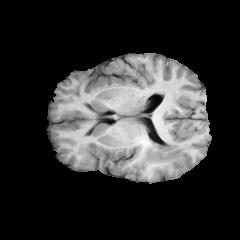glioma: (100, 144, 185, 164)
